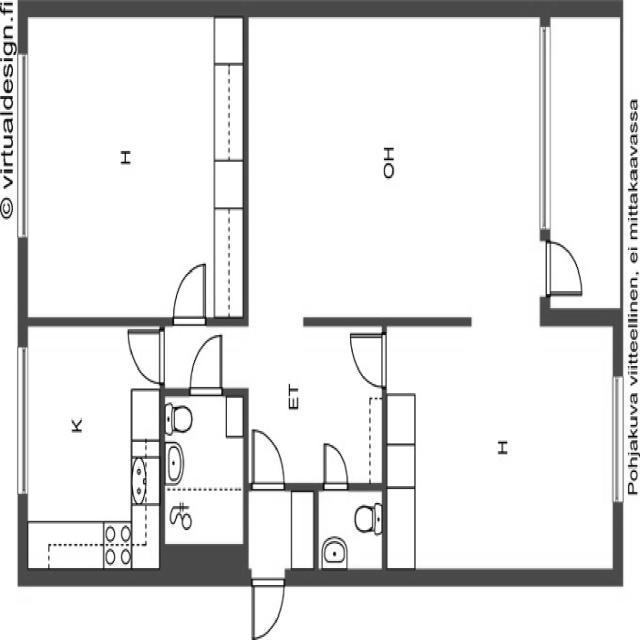door: (314, 489, 386, 576), (164, 255, 212, 329), (345, 322, 393, 393), (536, 232, 587, 296), (245, 568, 288, 640), (248, 422, 289, 492), (126, 322, 167, 387), (187, 331, 225, 396), (317, 434, 351, 492)
window: (531, 15, 559, 240), (11, 41, 33, 246), (606, 368, 628, 512), (13, 337, 32, 502)
zone: (254, 21, 541, 322), (18, 12, 242, 326), (380, 320, 624, 581), (21, 324, 162, 573), (242, 322, 388, 490), (548, 8, 622, 315), (162, 390, 246, 560), (316, 487, 384, 576), (10, 36, 33, 252)
